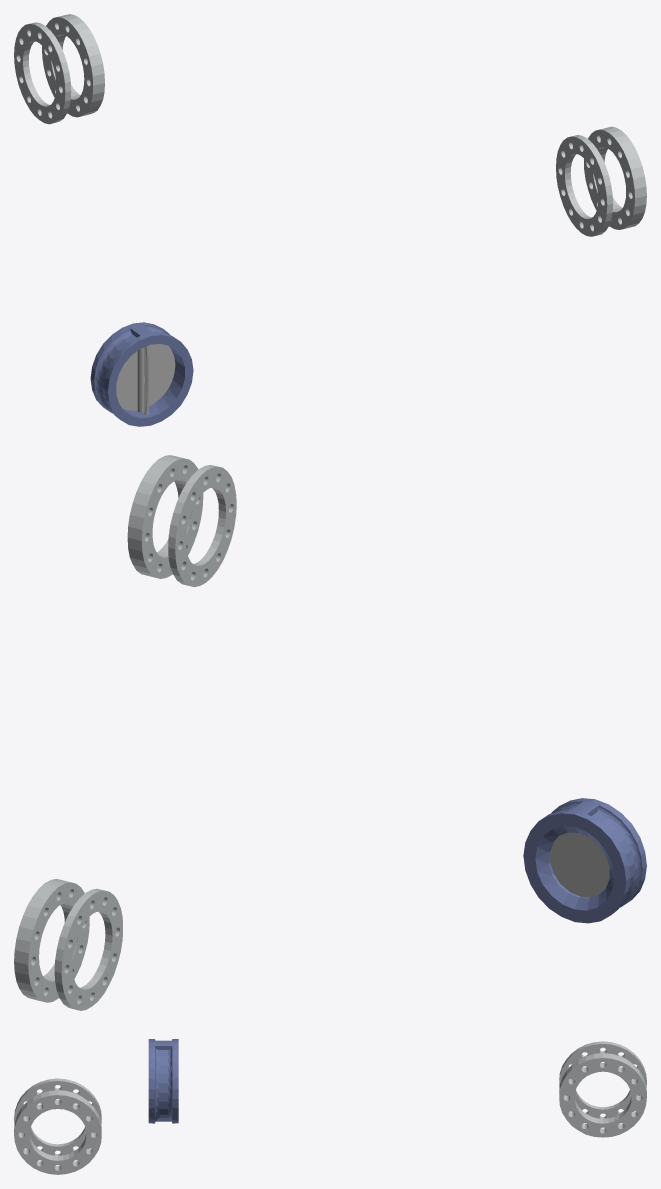
3 renders of one model, top to bottom at view 1: azimuth 30°, elevation 25°; view 2: azimuth 150°, elevation 25°; view 3: azimuth 270°, elevation 25°, orthographic. The views are drawn at different scales.
Size of the model in its own units: 1.76 by 0.8486 by 2.45.
